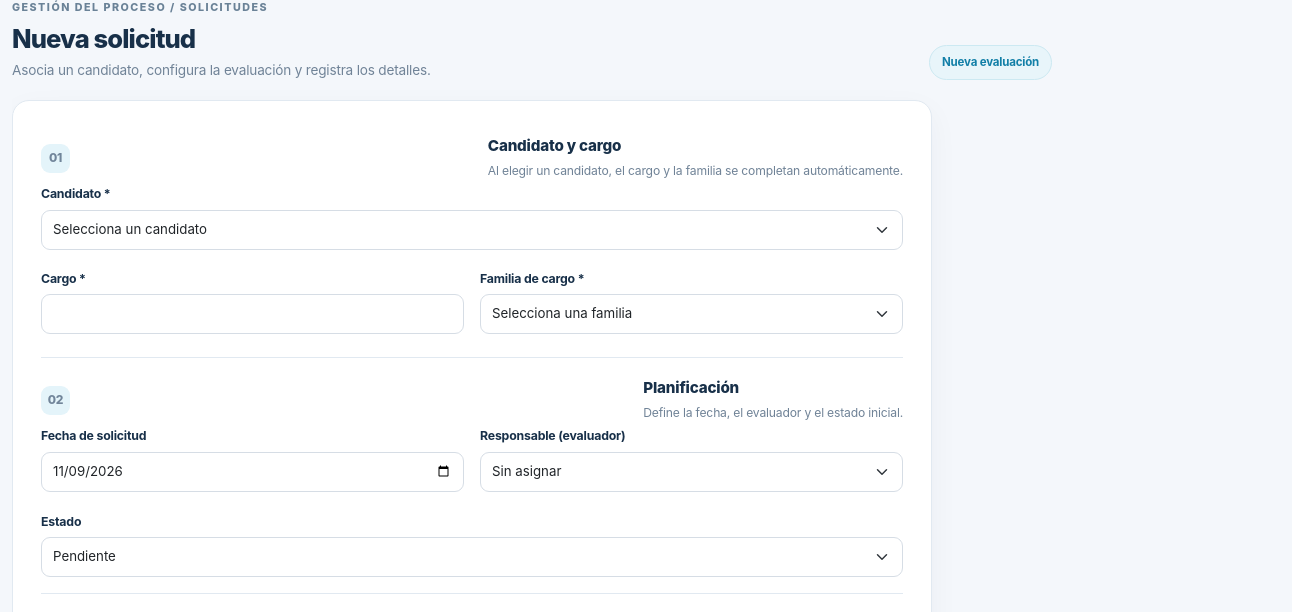
Test: SolicitudFormPage › muestra error si falla el guardado
Select "1" in the dropdown below "Candidato *": (472, 230) [41,210,903,250]
(page scrolled)
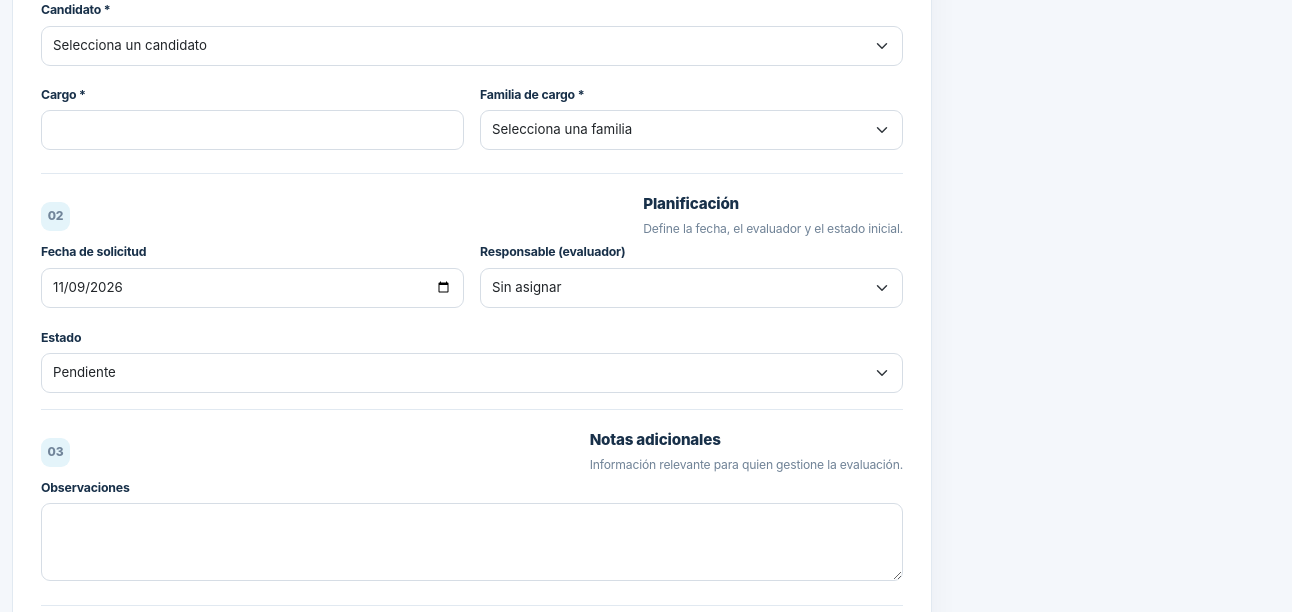
Submit the form named "Crear solicitud"
(page scrolled)
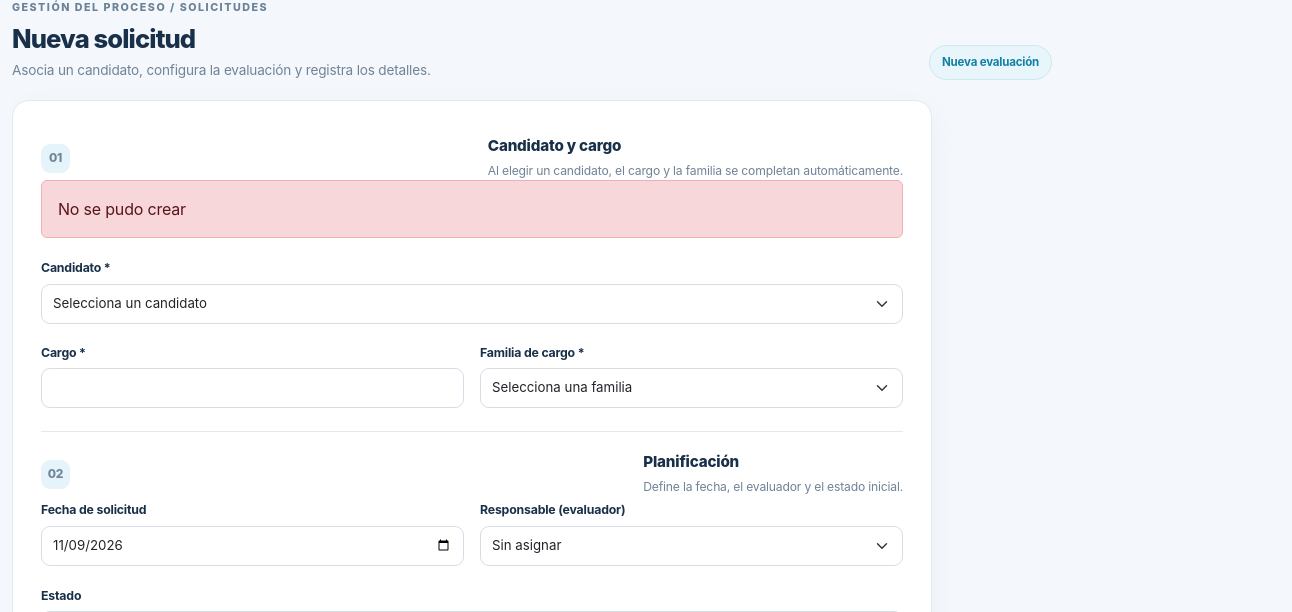
Now the text "No se pudo crear" is shown, box [41,180,903,238]
